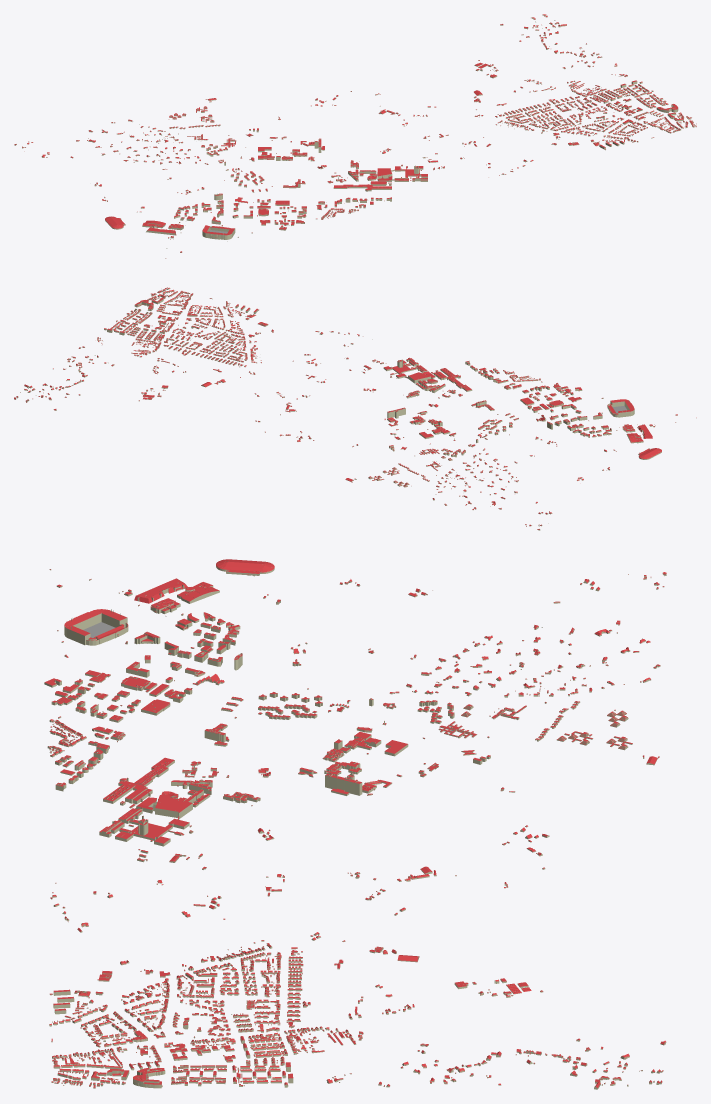
The model's file is campus buildings ex1.obj.
The picture shows the model from 3 angles, top to bottom: view 1: azimuth 30°, elevation 25°; view 2: azimuth 150°, elevation 25°; view 3: azimuth 270°, elevation 25°; orthographic projection. The views are drawn at different scales.
Parts seen in each view (by area): view 1: 8-968-664-LoD22-3D.2452; view 2: 8-968-664-LoD22-3D.2452; view 3: 8-968-664-LoD22-3D.2452, 8-968-664-LoD22-3D.004, 8-968-664-LoD22-3D.3157, 8-968-664-LoD22-3D.3095.
Boxes of the visible parts, x1,y1,x2,y2 form: 8-968-664-LoD22-3D.2452: [202, 225, 235, 239]; 8-968-664-LoD22-3D.2452: [607, 399, 634, 417]; 8-968-664-LoD22-3D.2452: [64, 609, 128, 645]; 8-968-664-LoD22-3D.004: [99, 808, 189, 846]; 8-968-664-LoD22-3D.3157: [135, 795, 192, 819]; 8-968-664-LoD22-3D.3095: [103, 757, 174, 803].
Bounding box in the file's own units: 4084 × 71.39 × 2020.
